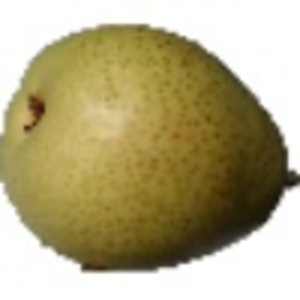pera: (1, 22, 300, 275)
